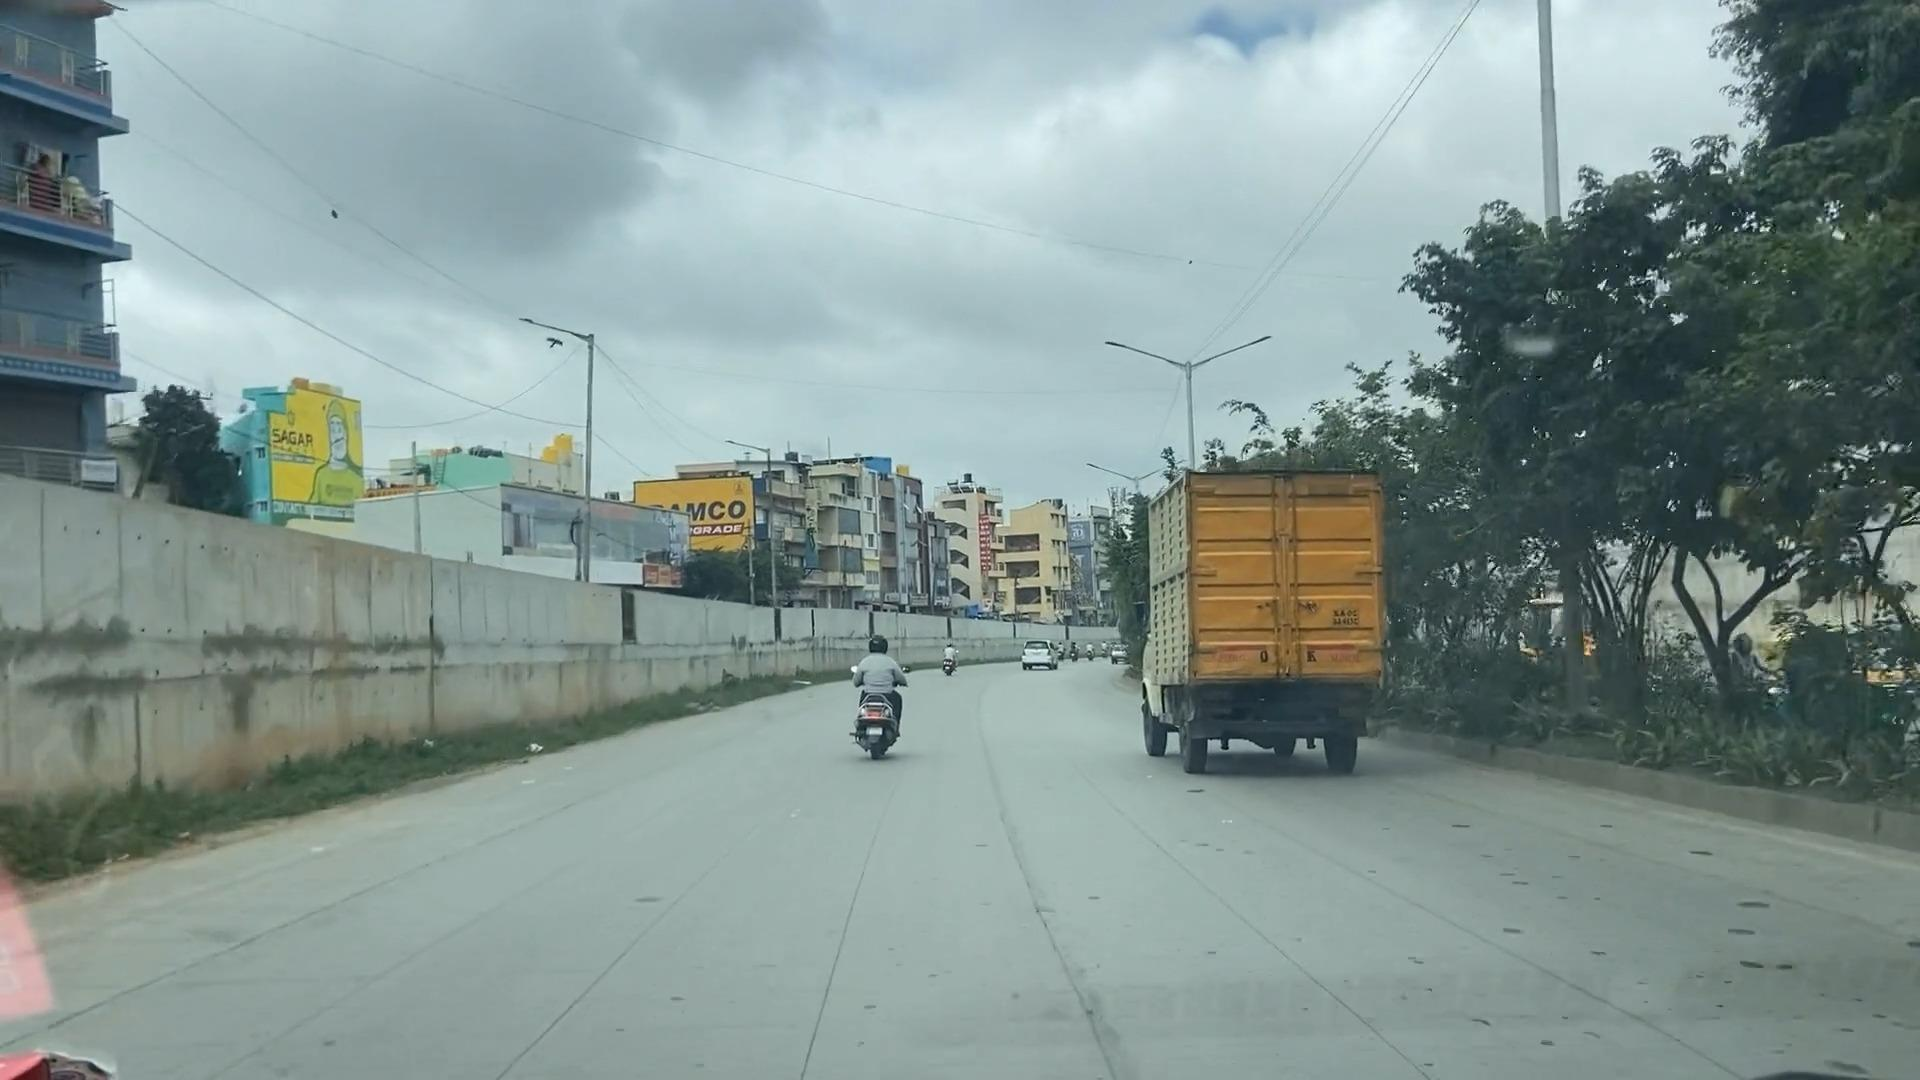HMV: (1131, 444, 1412, 796)
